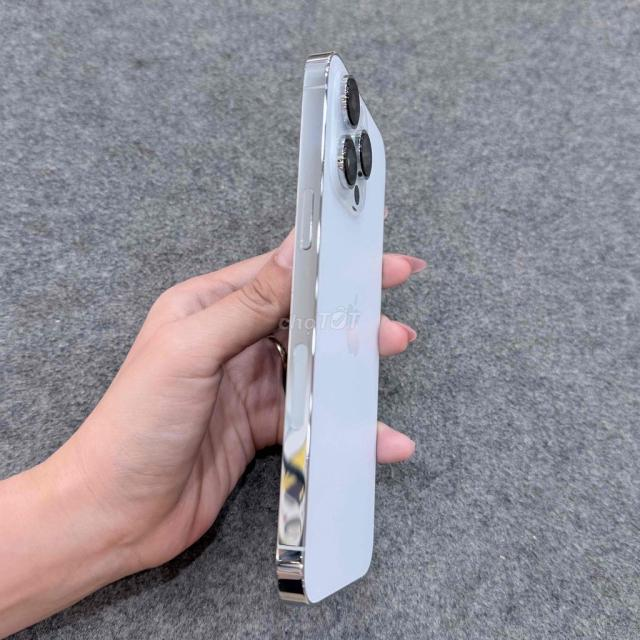gen_14: (266, 42, 400, 612)
